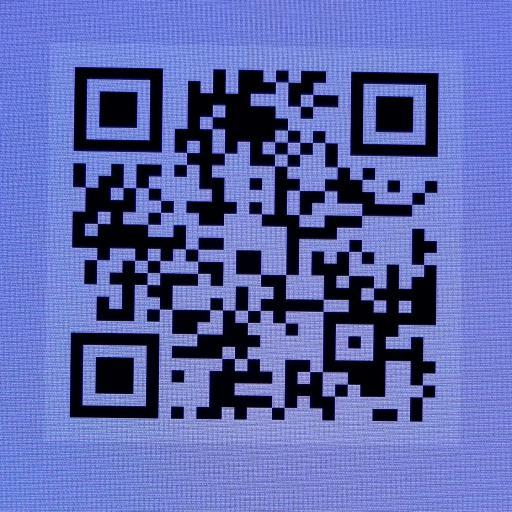qr_code: (69, 66, 440, 423)
